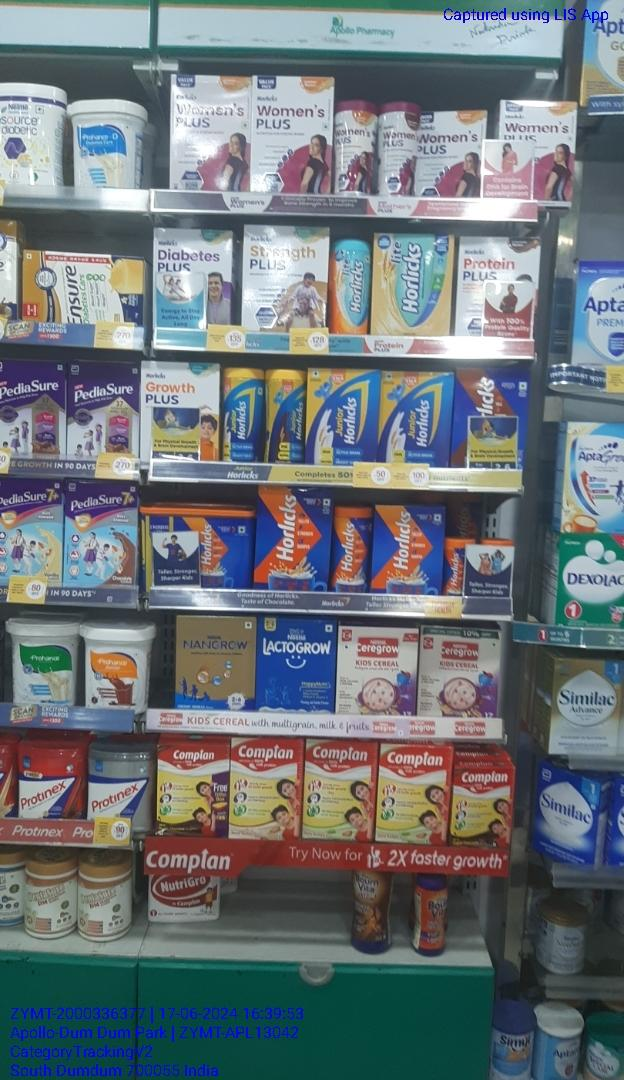BOURN_VITA_200_G_JAR: (416, 874, 451, 955)
BOURN_VITA_FIVE_STAR_MAGIC_500_G_JAR: (352, 870, 391, 953)
COMPLAN_CHOCOLATE_200_GMS_PACK: (452, 767, 514, 847)
COMPLAN_CHOCOLATE_500_GMS_PACK: (158, 738, 228, 836)
COMPLAN_KESAR_BADAM_500_GMS_PACK: (230, 737, 304, 838)
COMPLAN_PISTA_BADAM_500_GMS_PACK: (379, 745, 451, 847), (305, 740, 377, 839)
HORLICKS_JUNIOR_VANILLA_500_GM_JAR: (223, 367, 262, 462)
HORLICKS_LITE_REGULAR_MALT_500_GM_JAR: (331, 238, 368, 335)
HORLICK_CLASSIC_MALT_500_G_JAR: (333, 505, 369, 591)
HORLICK_CLASSIC_MALT_500_G_PACK: (260, 487, 331, 591), (372, 500, 447, 594)
HORLICK_MALT_1_KG_CONTAINER: (146, 508, 255, 592)
PEDIASURE_7_PLUS_CHOCOLATE_400_G_PACK: (64, 482, 140, 581)
PEDIASURE_CHOCOLATE_500_G_PACK: (66, 363, 138, 455), (0, 360, 66, 455)
PROTINEX_CHOCOLATE_400_G_JAR: (19, 738, 84, 821)
PROTINEX_ORIGINAL_400_G_JAR: (89, 740, 155, 831)
